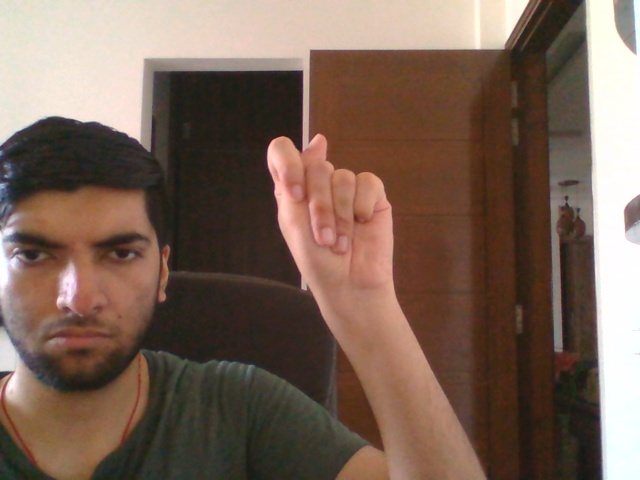LetterT: (265, 131, 397, 297)
